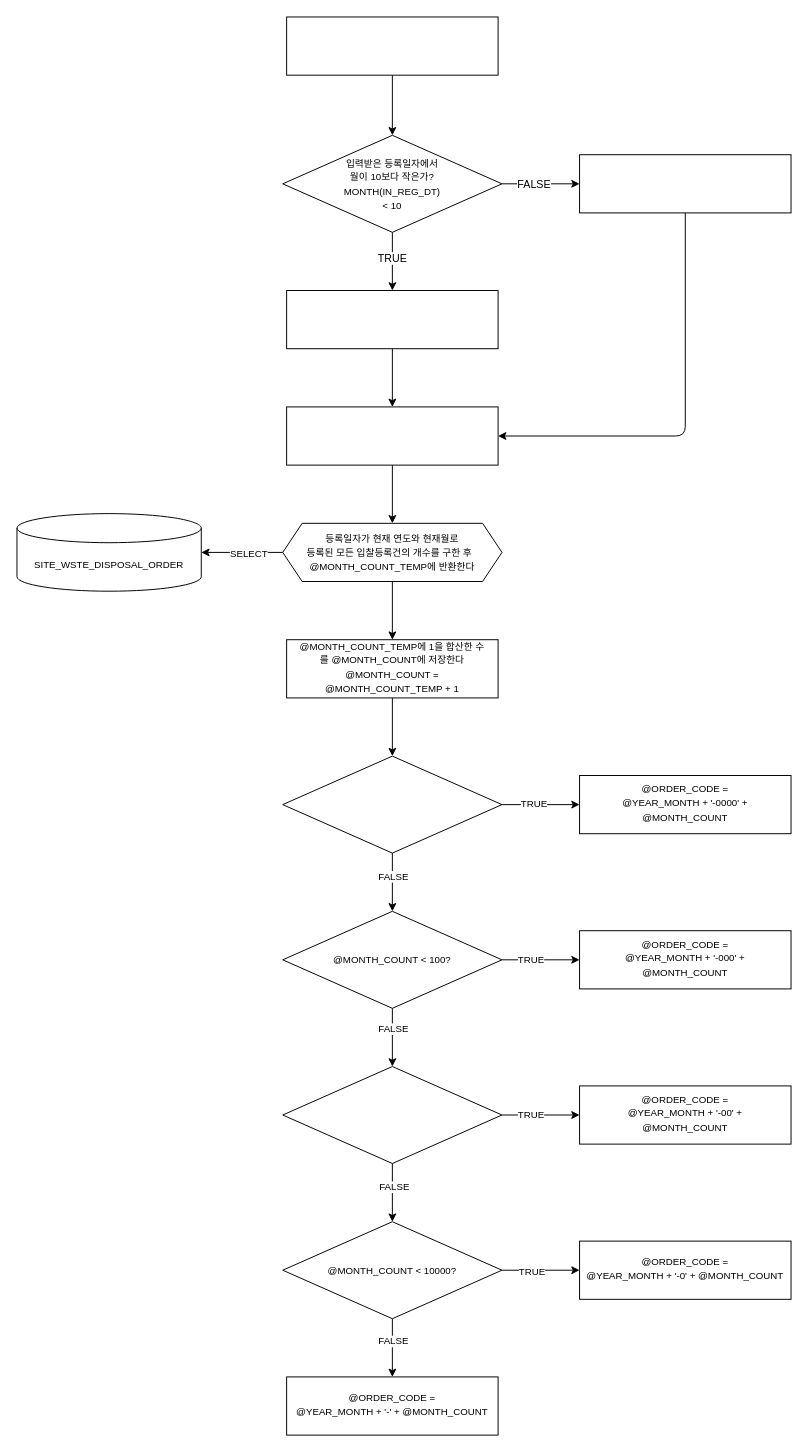
This 808x1452 diagram has some shape labels left out. The shapes that lost their labels are listed below. From the top down, each one's centre as x and y in pixels, then its label:
pixel 392 45: 입력받은 등록일자에서 연도 2자리를 구하여 @str_year에 반환한다
pixel 685 183: 입력받은 등록일자의 월수를 그대로 @str_month에 반환한다
pixel 392 319: 월 앞자리에 0을 붙힌 후 @str_month에 반환한다
pixel 392 435: 연도와 월을 합하여 4자리의 문자열로 만들어서 @YEAR_MONTH에 반환한다
pixel 392 804: @MONTH_COUNT < 10?
pixel 392 1115: @MONTH_COUNT < 1000?
